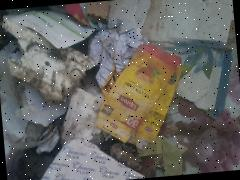paper: (88, 41, 188, 154), (164, 36, 238, 122), (33, 133, 145, 180), (2, 6, 97, 54), (87, 26, 152, 88), (56, 84, 108, 148)
